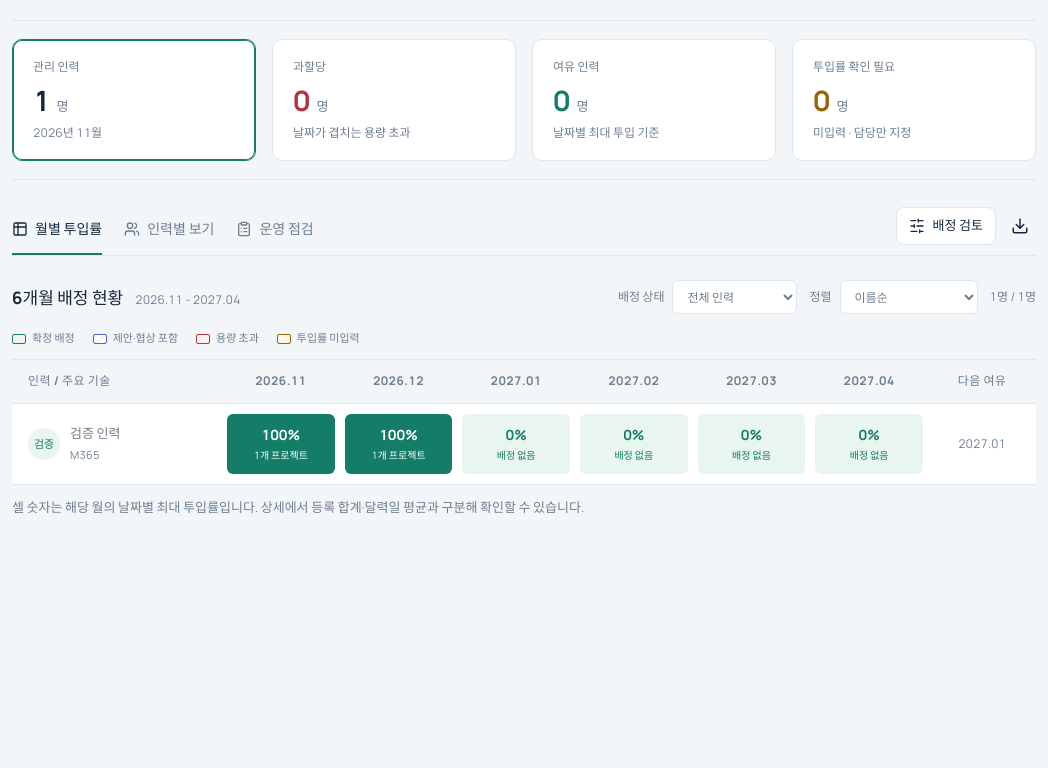
Test: staffing workflow › shows an empty filter state and resets it
Select "여유 있음" in the dropdown named "배정 상태 필터" at [735, 297], box [672, 280, 798, 314]
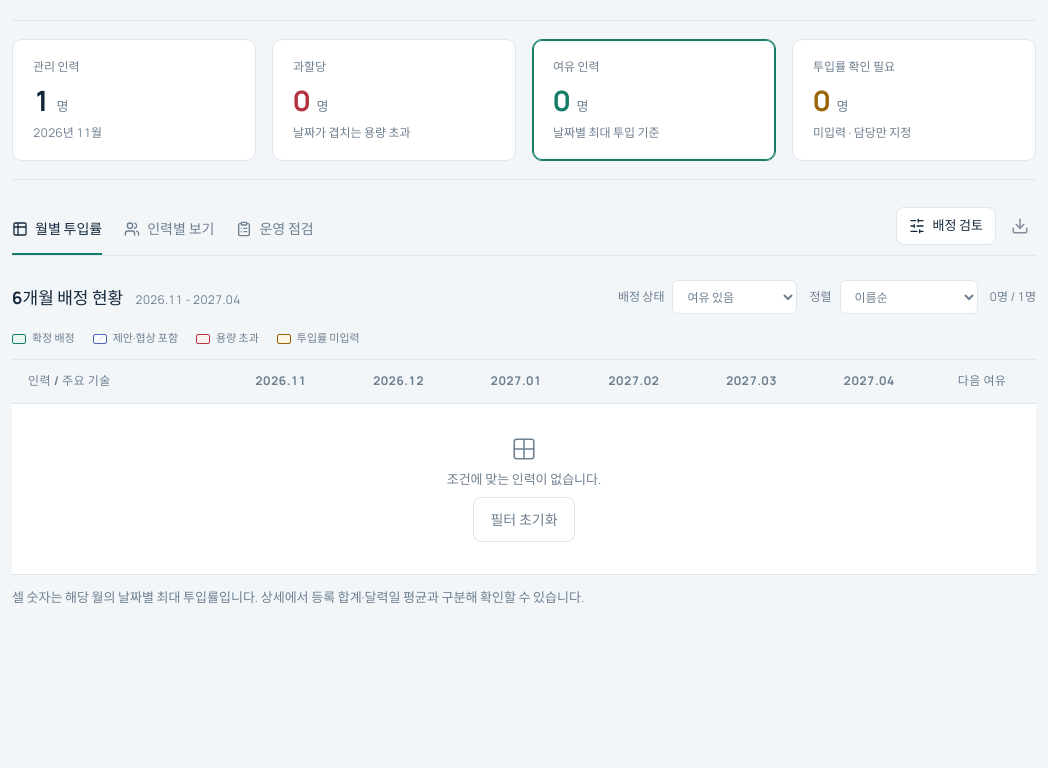
Now the text "조건에 맞는 인력이 없습니다." is shown, box [447, 470, 601, 489]
Click the button "필터 초기화" at [524, 520], box [473, 497, 575, 542]
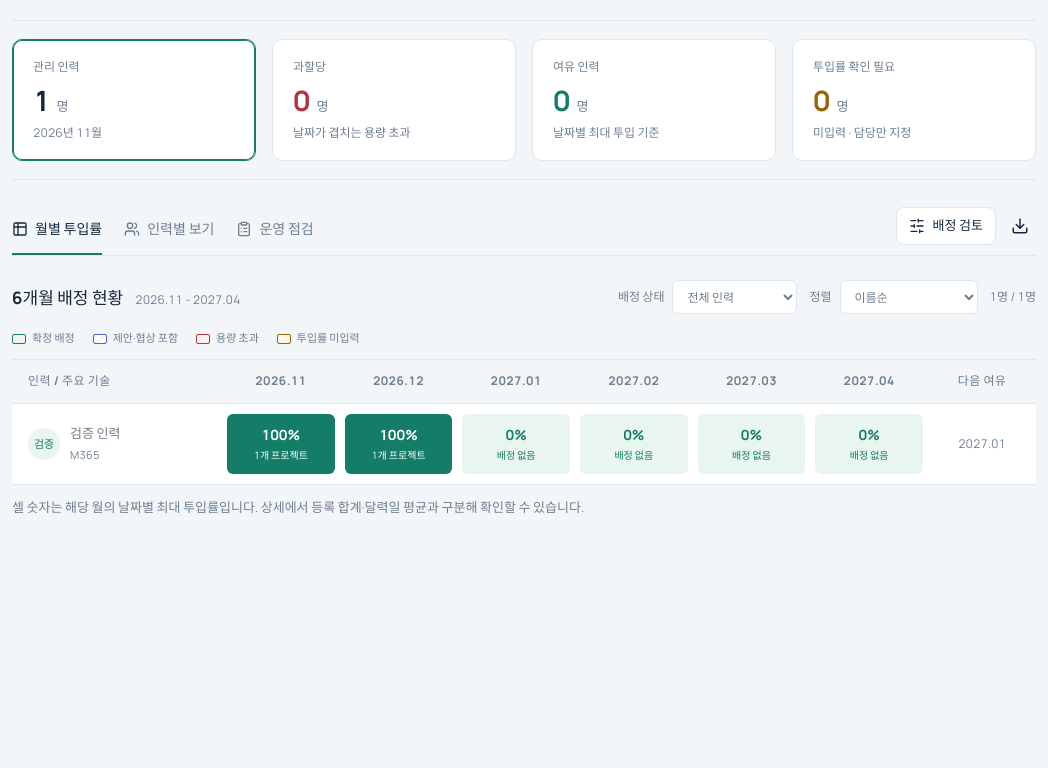
Now the button with aria-label "검증 인력 2026년 11월 투입 상세" is shown, box [227, 414, 335, 474]
